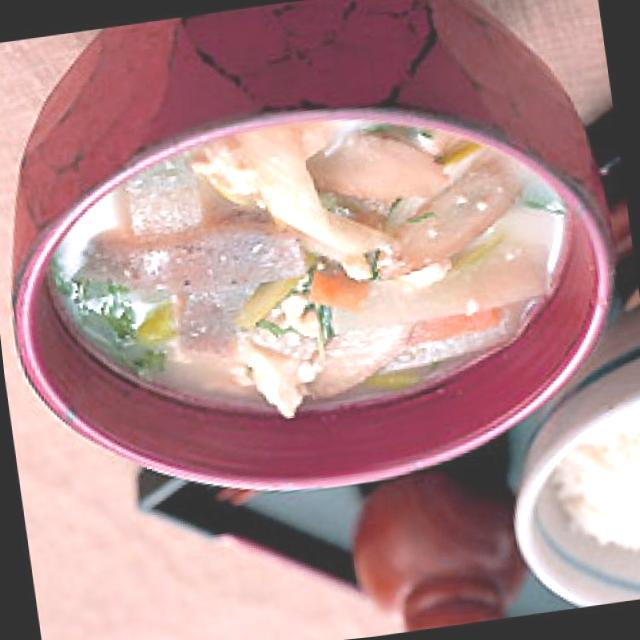Rice: (543, 405, 640, 601)
